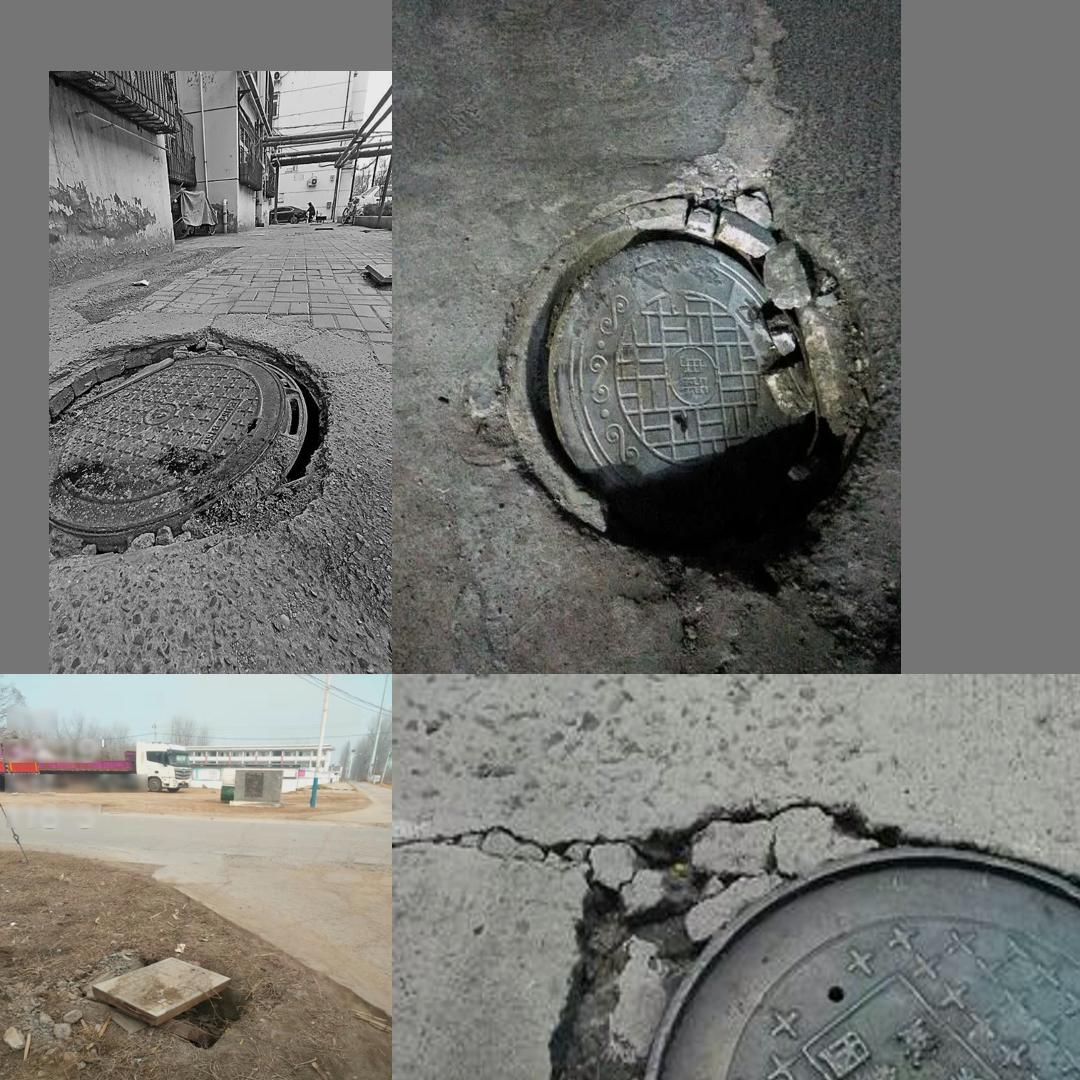circle: (533, 771, 1080, 1080), (486, 194, 885, 569), (49, 313, 346, 625), (69, 946, 262, 1057)
